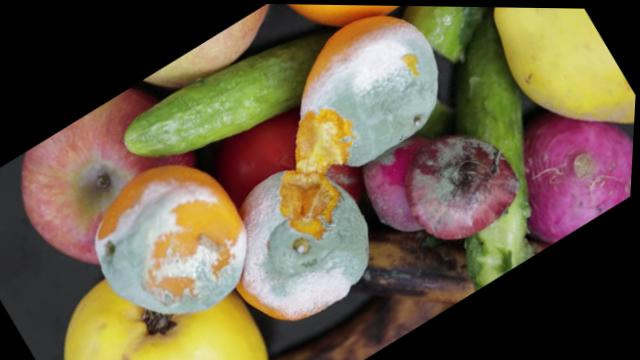organic: (112, 2, 367, 194), (0, 75, 221, 283), (241, 4, 473, 199), (189, 142, 402, 348), (66, 145, 274, 347), (28, 223, 307, 360), (453, 7, 640, 174), (475, 79, 636, 252), (377, 106, 538, 260), (142, 2, 287, 110), (352, 131, 472, 249), (272, 4, 464, 63)
